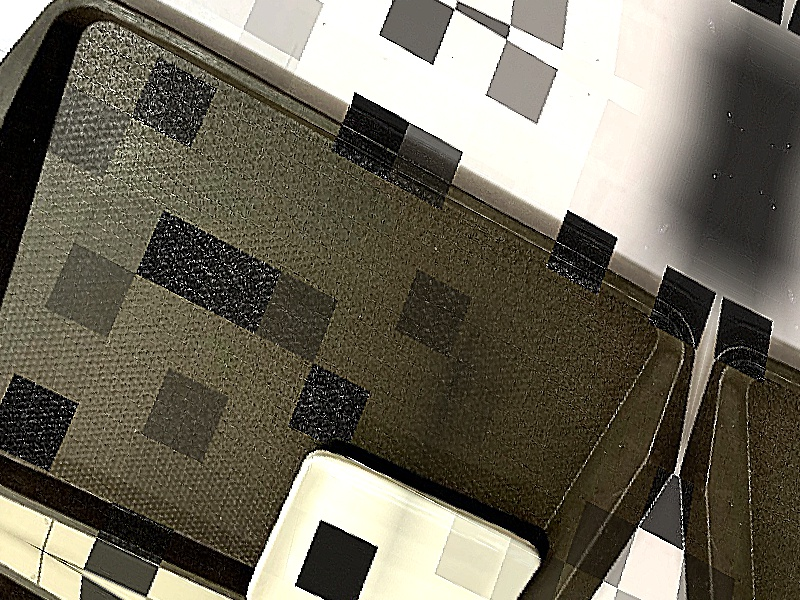dish4: (226, 415, 557, 599)
